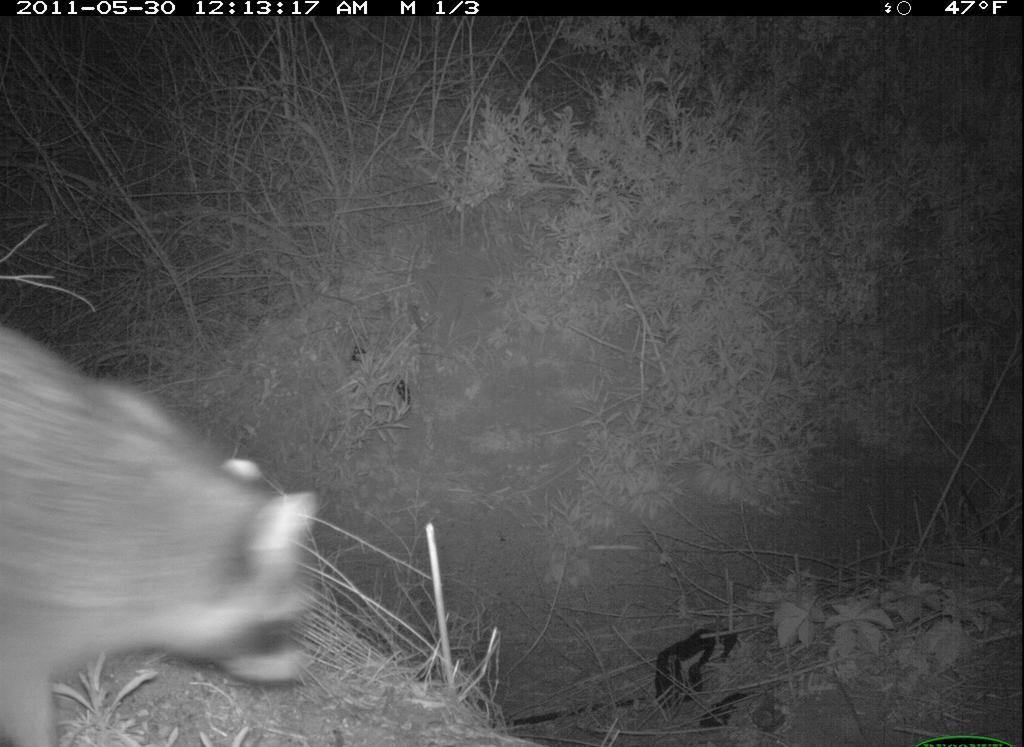raccoon: (2, 313, 329, 747)
